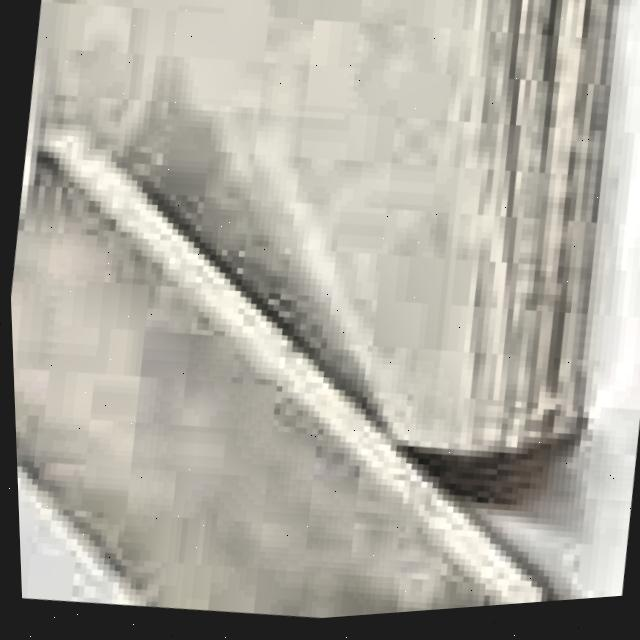paper: (9, 0, 619, 623)
